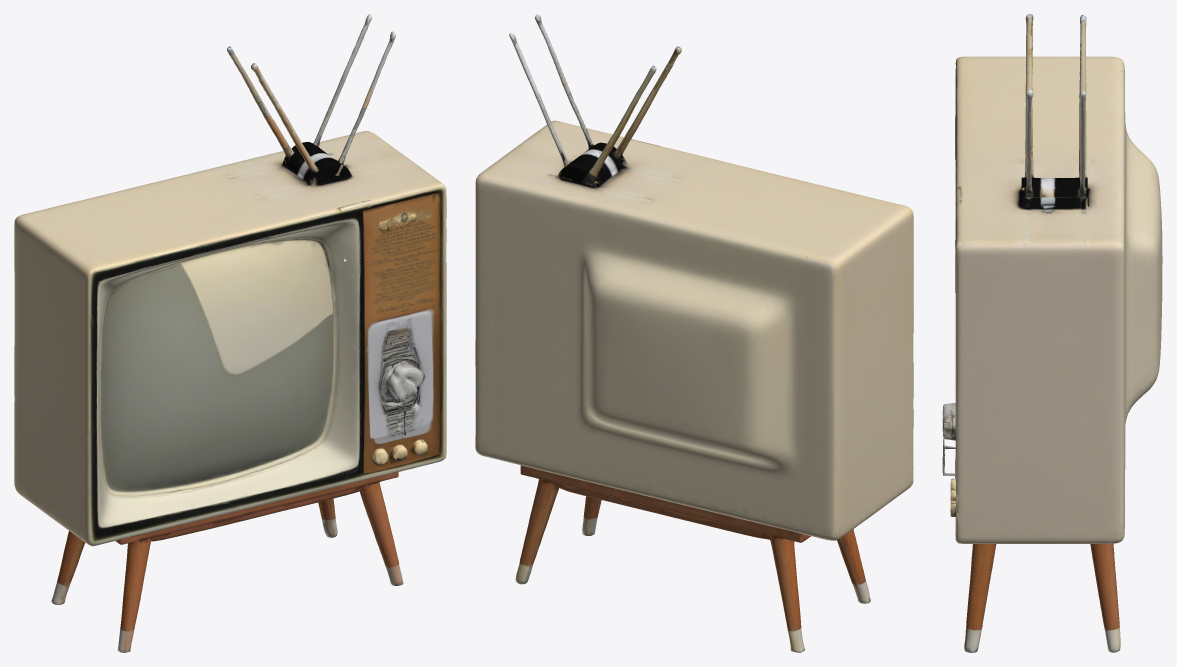
Rendered from Vintage_Television_Se_0718001130_texture.fbx.
3 renders of one model, left to right at view 1: azimuth 30°, elevation 25°; view 2: azimuth 150°, elevation 25°; view 3: azimuth 270°, elevation 25°, orthographic. The views are drawn at different scales.
Parts seen in each view (by area): view 1: Mesh_0; view 2: Mesh_0; view 3: Mesh_0.
Boxes of the visible parts, x1=… form: Mesh_0: x1=14, y1=14, x2=446, y2=652; Mesh_0: x1=475, y1=14, x2=913, y2=652; Mesh_0: x1=942, y1=14, x2=1162, y2=652.
Size of the model in its own units: 143 by 200 by 69.28.
Materials: 1 (1 with a texture image).
